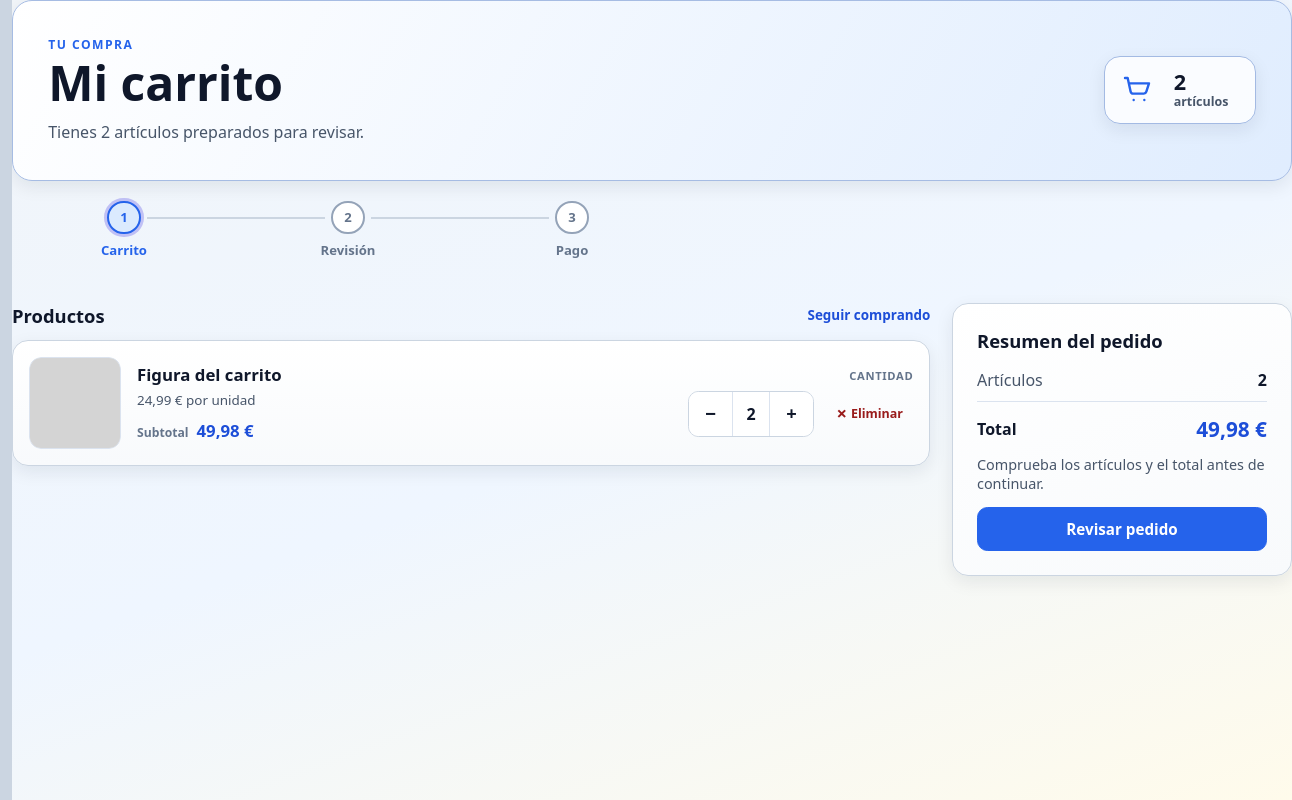
CartPage › muestra enlaces, precio unitario, subtotal y controles claros
Expected: the text "Tienes 2 artículos preparados para revisar." is shown, top-left (48, 120), bottom-right (364, 144)
Expected: the text "24,99 € por unidad" is shown, top-left (137, 391), bottom-right (256, 409)
Click the button named "Quitar una unidad de Figura del carrito" at (711, 414), box top-left (689, 392), bottom-right (733, 436)
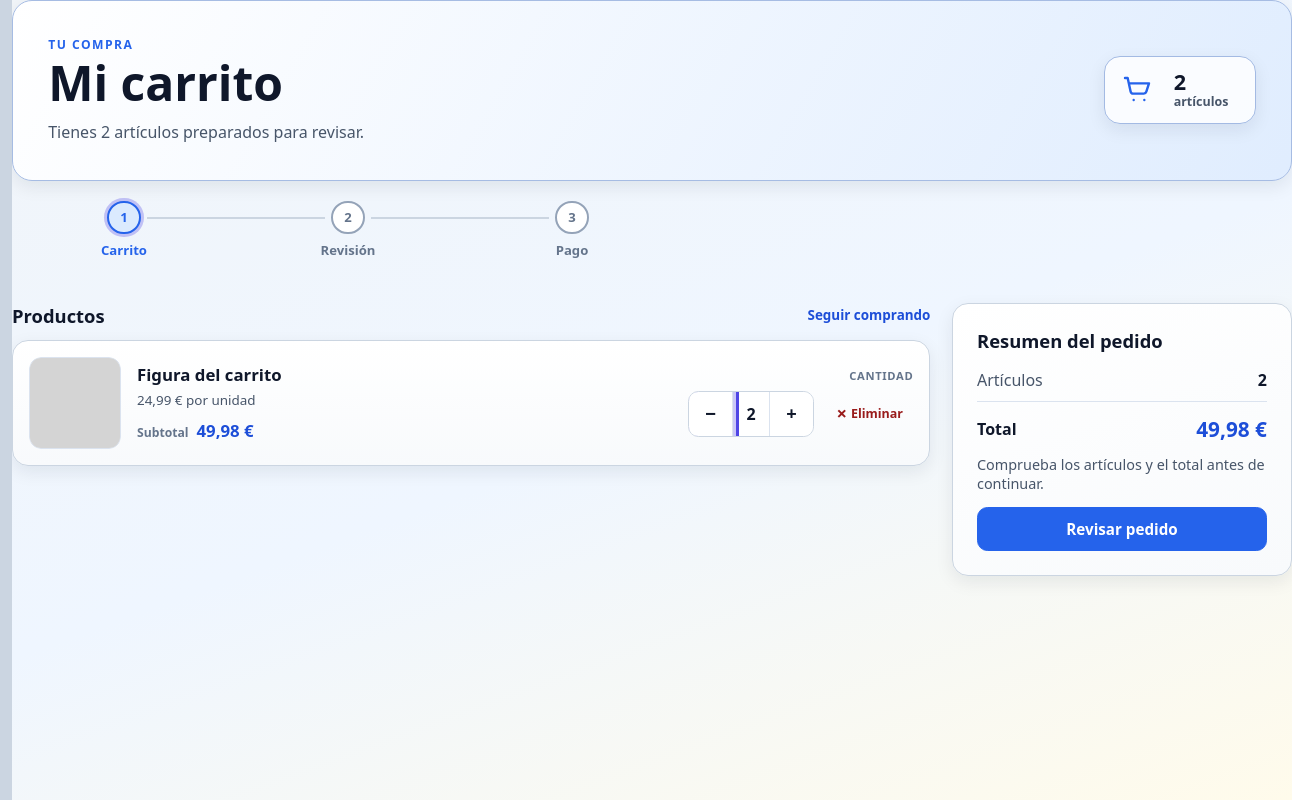
Click the button named "Añadir una unidad de Figura del carrito" at (791, 414), box top-left (769, 392), bottom-right (813, 436)
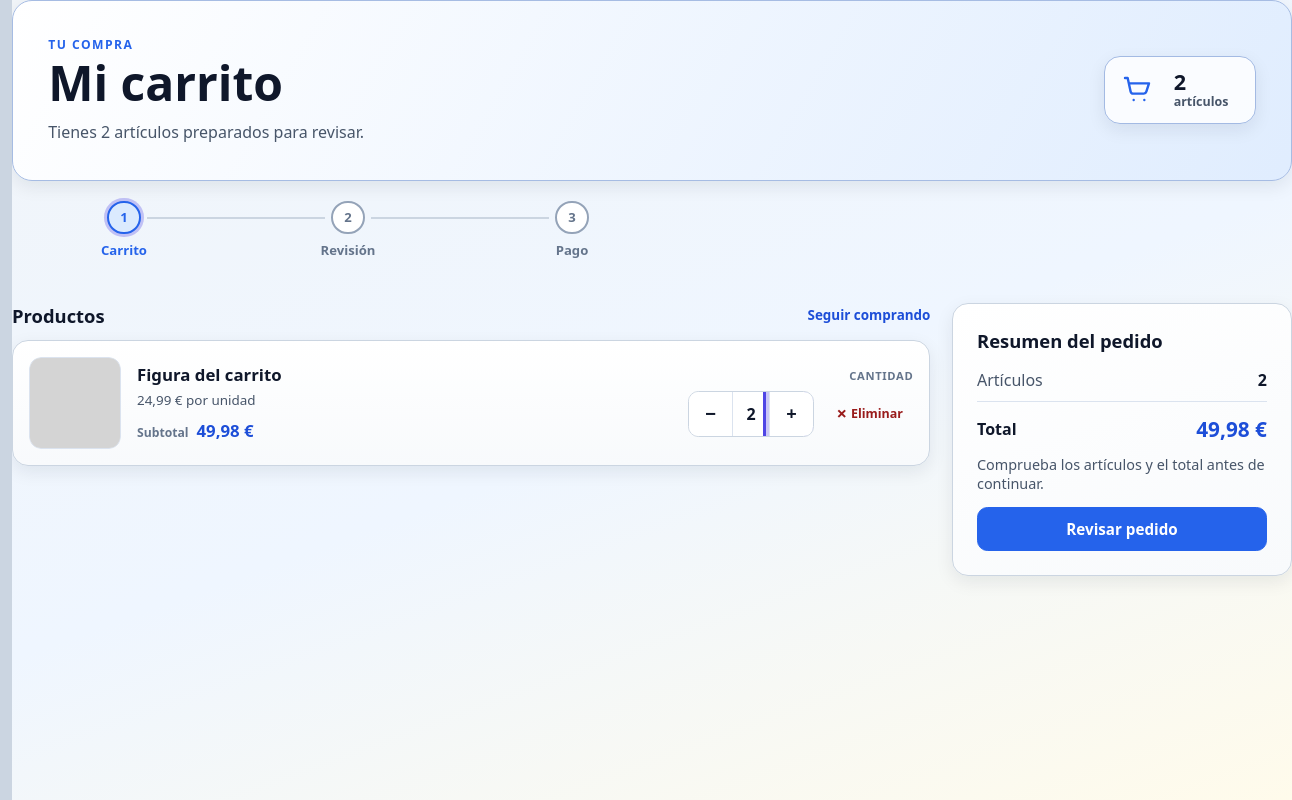
Click the button with aria-label "Eliminar Figura del carrito del carrito" at (870, 414), box top-left (826, 392), bottom-right (913, 436)
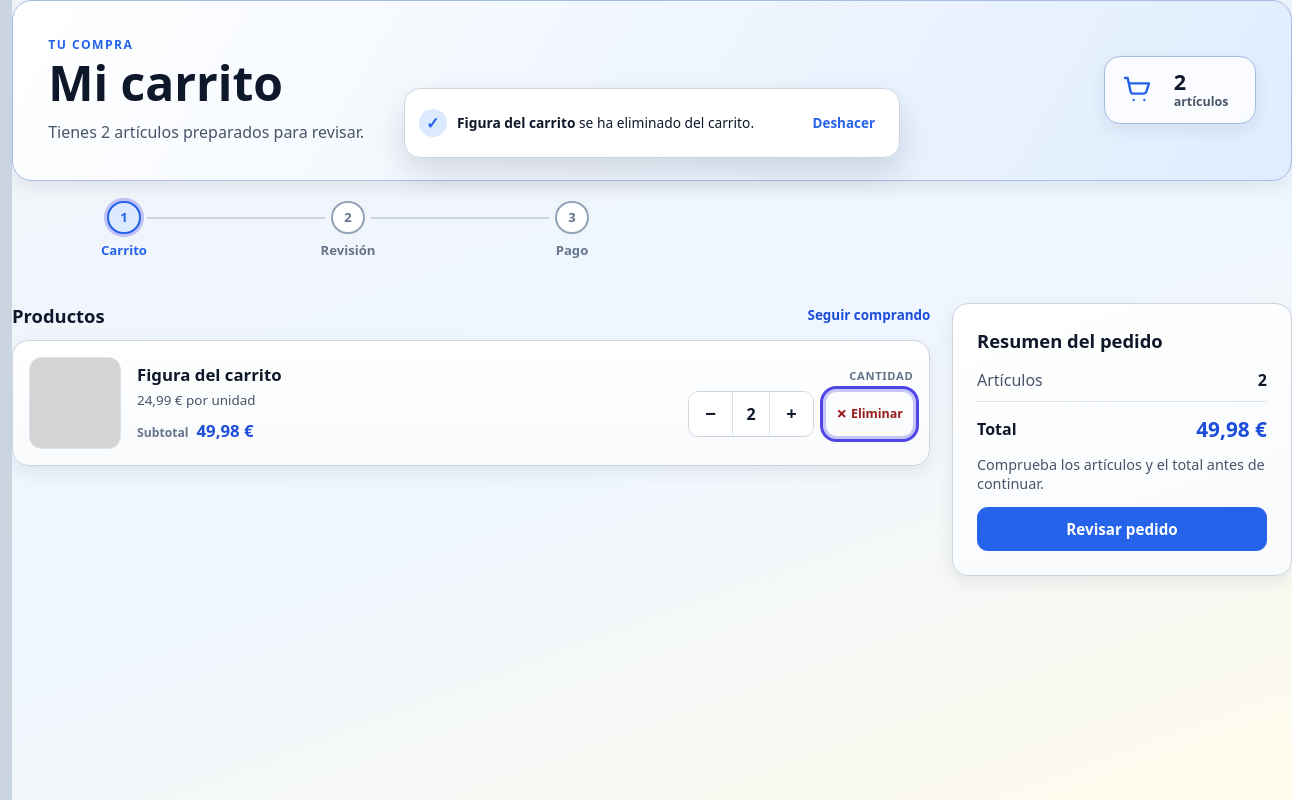
Now the message shows "Figura del carrito se ha eliminado del carrito.", box top-left (404, 88), bottom-right (900, 158)
Click the button "Deshacer" at (844, 123), box top-left (802, 101), bottom-right (886, 145)
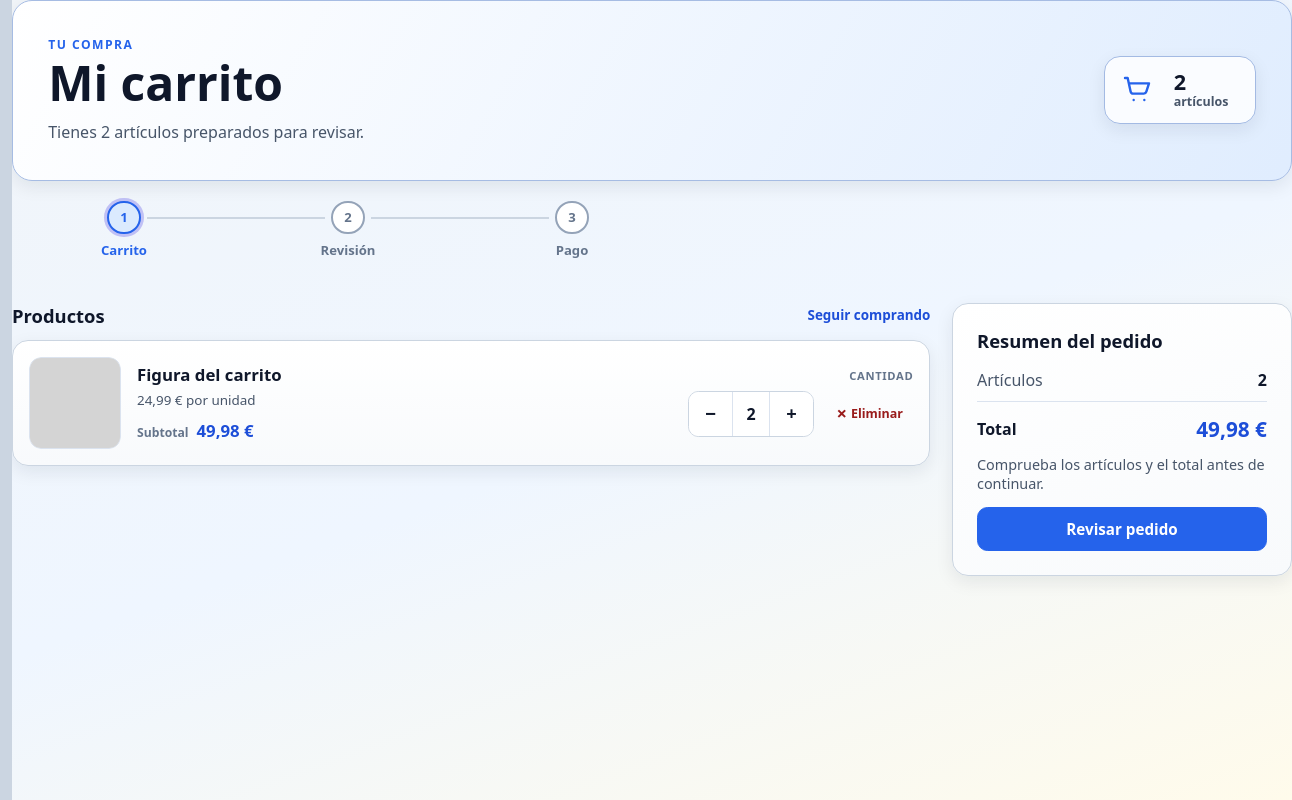
Now the button "Deshacer" is gone
